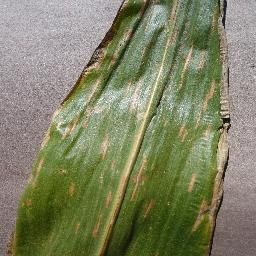Gray_Leaf_Spot: (191, 0, 237, 256), (86, 0, 157, 57), (50, 81, 146, 120), (168, 0, 192, 90), (24, 138, 48, 197), (76, 56, 130, 80), (129, 151, 153, 199), (35, 121, 90, 138), (176, 118, 191, 145), (99, 129, 111, 161), (89, 215, 104, 239), (143, 196, 157, 221), (10, 232, 20, 256), (18, 197, 34, 211), (66, 179, 77, 199), (104, 189, 112, 213)
